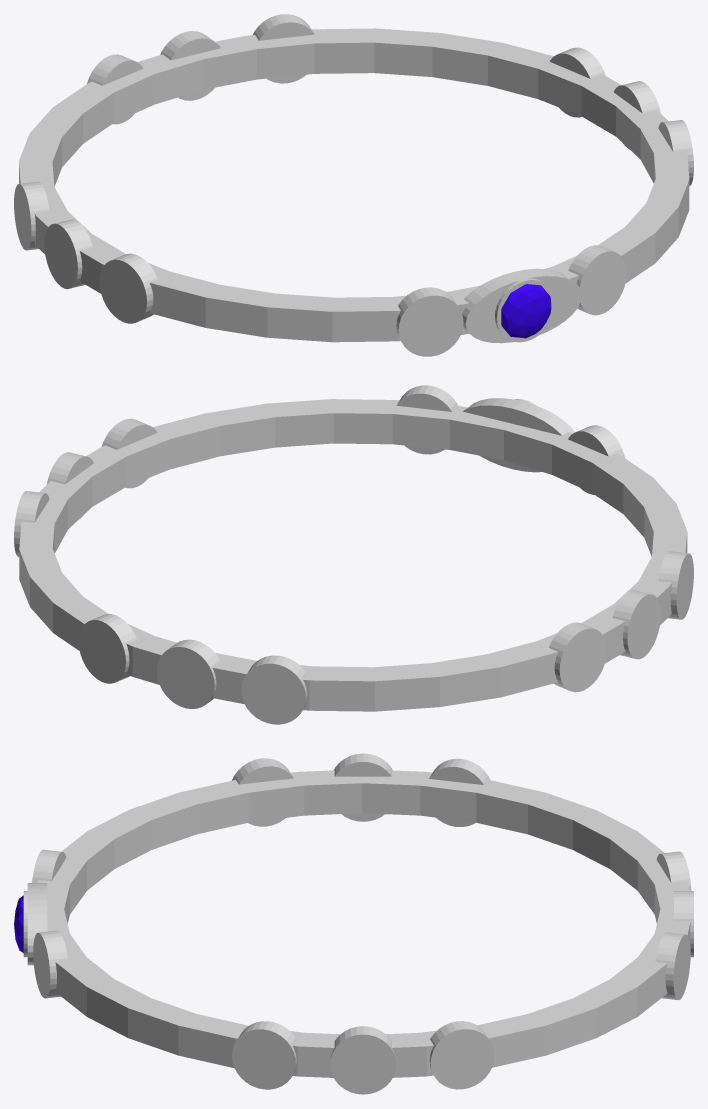
File: belt.fbx
3 renders of one model, top to bottom at view 1: azimuth 30°, elevation 25°; view 2: azimuth 150°, elevation 25°; view 3: azimuth 270°, elevation 25°, orthographic.
Visible parts, largest first — view 1: Belt, Icosphere, Buckle.007; view 2: Belt; view 3: Belt.
Boxes of the visible parts, bbox=[...] form: Belt: bbox=[14, 14, 693, 356]; Icosphere: bbox=[501, 284, 551, 338]; Buckle.007: bbox=[495, 278, 554, 342]; Belt: bbox=[14, 385, 693, 724]; Belt: bbox=[27, 753, 693, 1094].
Size of the model in its own units: 201 by 20 by 205.
